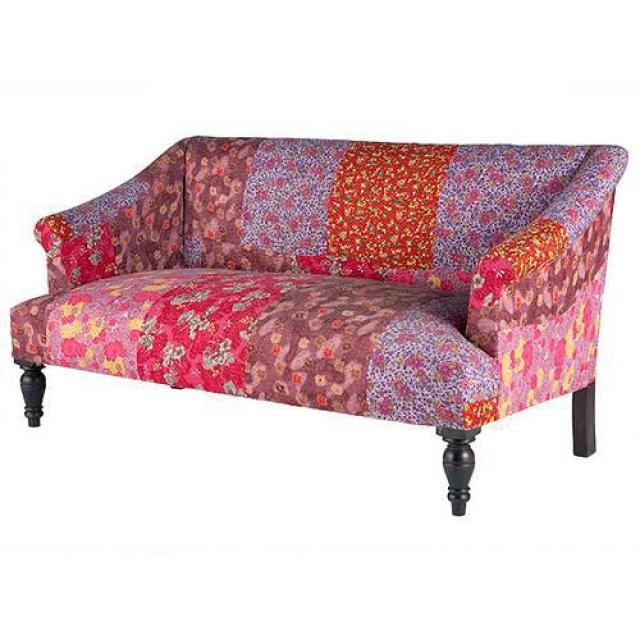sofa: (9, 137, 628, 511)
